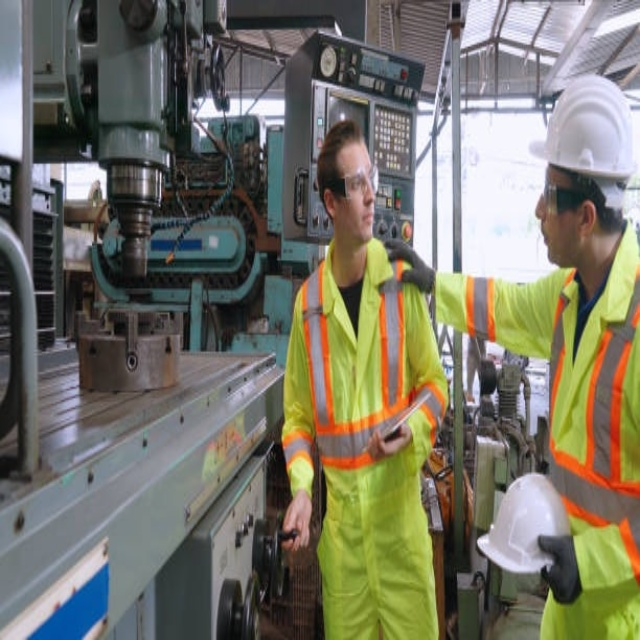Gafas: (330, 158, 380, 201), (542, 179, 584, 220)
Guantes: (538, 533, 583, 605), (382, 241, 435, 294)
Sin_guantes: (365, 417, 414, 464), (281, 489, 313, 551)
Sin_mascara: (535, 210, 559, 259), (355, 201, 376, 240)
